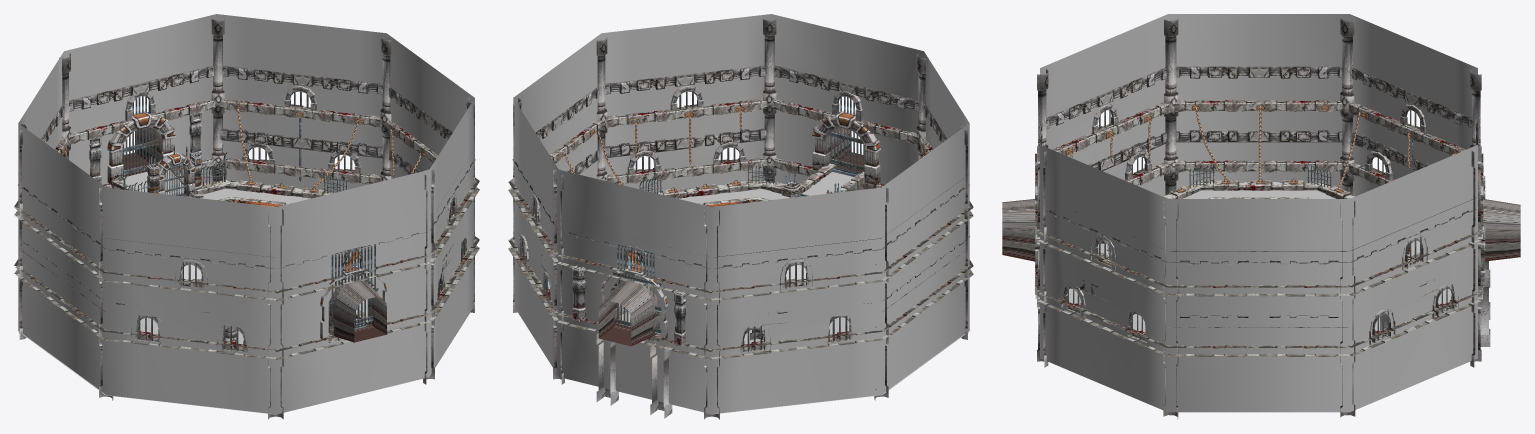
File: qnqfjqwnf.FBX
3 renders of one model, left to right at view 1: azimuth 30°, elevation 25°; view 2: azimuth 150°, elevation 25°; view 3: azimuth 270°, elevation 25°, orthographic. The views are drawn at different scales.
Parts seen in each view (by area): view 1: Object340, Object303, Object341, Object009, Object338, Plane001, Object342; view 2: Object340, Object303, Object341, Object009, Plane001, Object338; view 3: Object340, Object303, Object009.
Boxes of the visible parts, x1,y1,x2,y2 form: Object340: (18,14,474,414); Object303: (14,19,479,419); Object341: (122,96,378,330); Object009: (187,188,359,267); Object338: (17,299,367,414); Plane001: (120,170,356,319); Object342: (164,164,186,195); Object340: (513,14,969,414); Object303: (508,19,973,419); Object341: (615,96,864,340); Object009: (628,189,793,267); Plane001: (619,171,853,322); Object338: (548,281,970,414); Object340: (1040,14,1477,412); Object303: (1002,18,1520,419); Object009: (1183,190,1335,198).
Size of the model in its own units: 2595 by 1434 by 3005.
